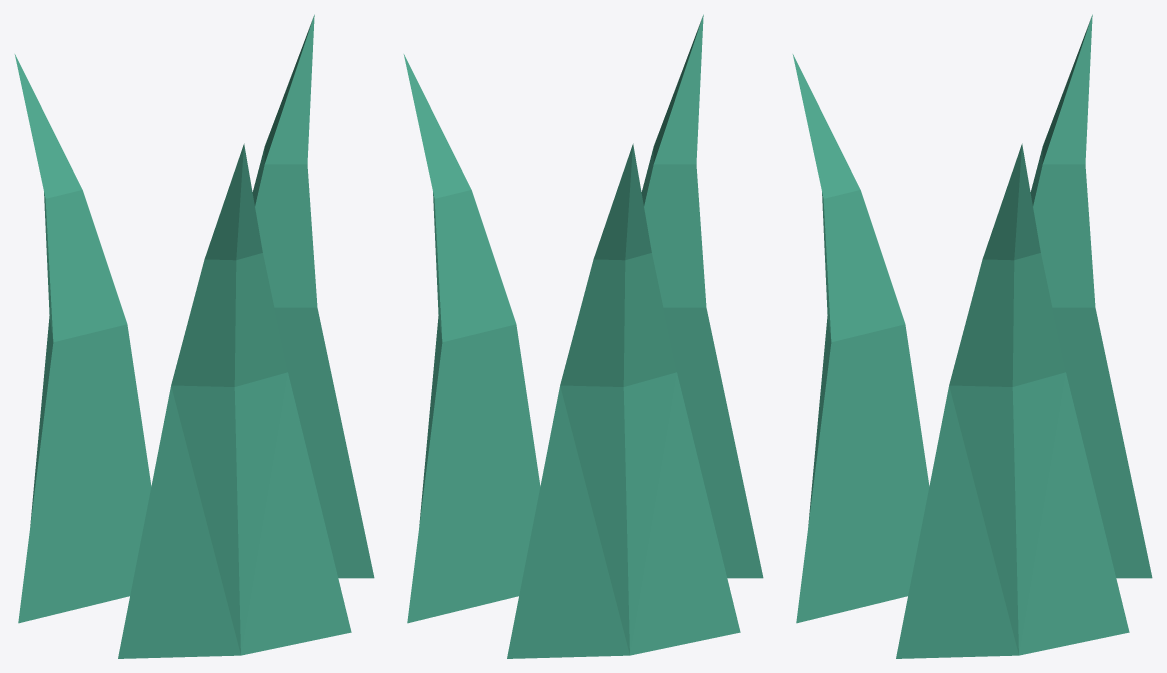
Rendered from plant-01.dae.
3 renders of one model, left to right at view 1: azimuth 30°, elevation 25°; view 2: azimuth 150°, elevation 25°; view 3: azimuth 270°, elevation 25°, orthographic.
Visible parts, largest first — view 1: Cube; view 2: Cube; view 3: Cube.
Boxes of the visible parts, <box> form: Cube: <box>14,14,374,658</box>; Cube: <box>403,14,763,658</box>; Cube: <box>792,14,1152,658</box>.
Size of the model in its own units: 0.4276 by 0.4209 by 0.6672.
